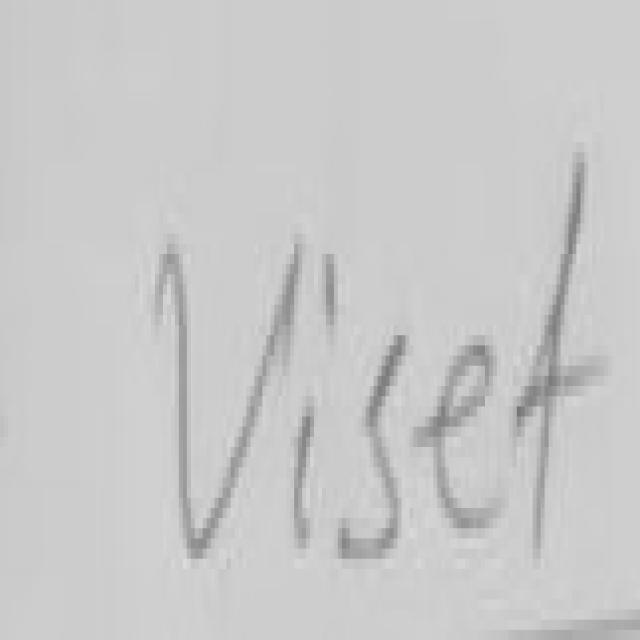V: (159, 244, 302, 559)
e: (521, 163, 608, 554), (417, 345, 501, 528)
i: (294, 406, 318, 543), (326, 254, 338, 335)
s: (342, 335, 409, 559)
t: (521, 163, 608, 554)
v: (298, 417, 314, 549)
